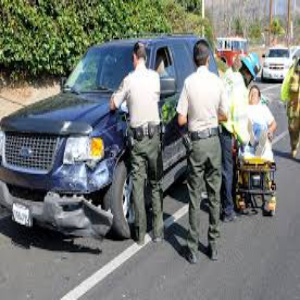bumper: (39, 178, 109, 255)
